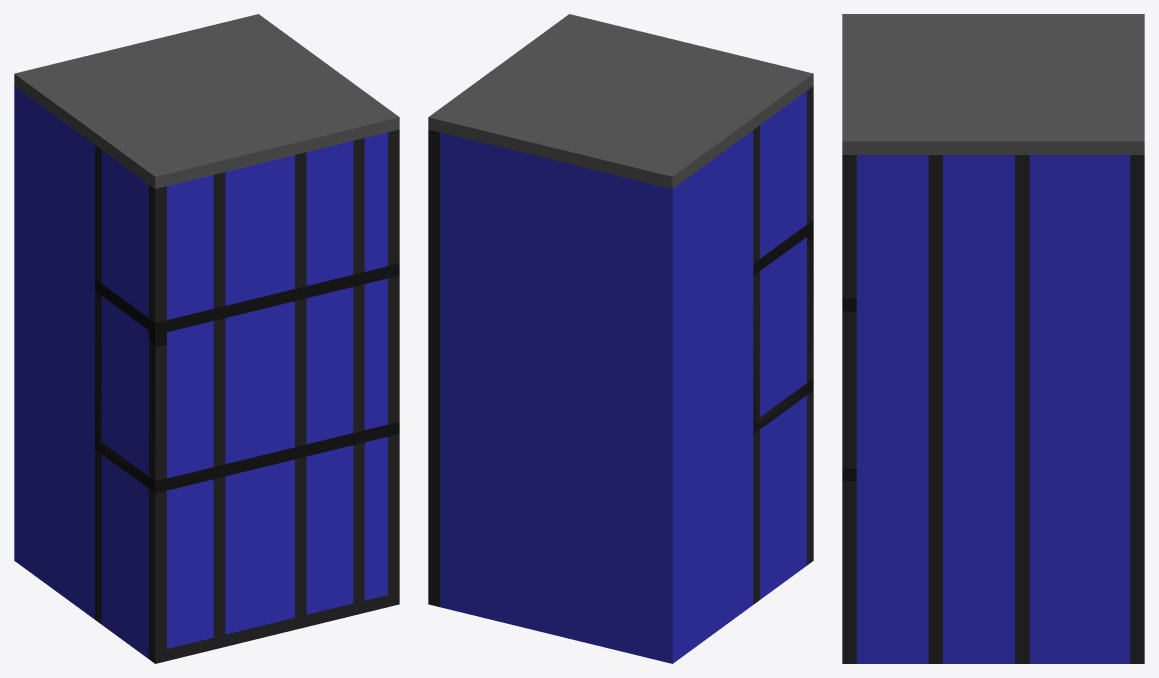
The model's file is SM_BUILDING.FBX.
3 renders of one model, left to right at view 1: azimuth 30°, elevation 25°; view 2: azimuth 150°, elevation 25°; view 3: azimuth 270°, elevation 25°, orthographic. The views are drawn at different scales.
Parts seen in each view (by area): view 1: SM_BUILDING; view 2: SM_BUILDING; view 3: SM_BUILDING.
Boxes of the visible parts, x1=… form: SM_BUILDING: x1=14, y1=14, x2=399, y2=663; SM_BUILDING: x1=428, y1=14, x2=813, y2=663; SM_BUILDING: x1=842, y1=14, x2=1144, y2=663.
Size of what is drawn, in the model's own units: 315 by 315 by 600.
